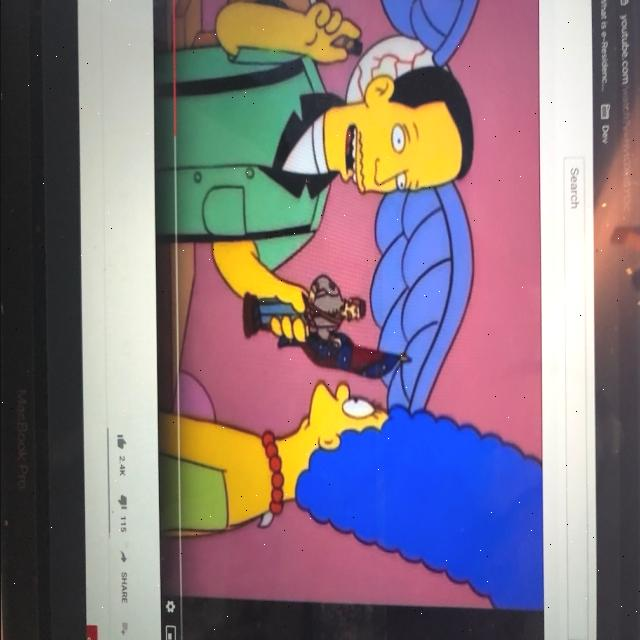Marge Simpson: (257, 377, 542, 603)
